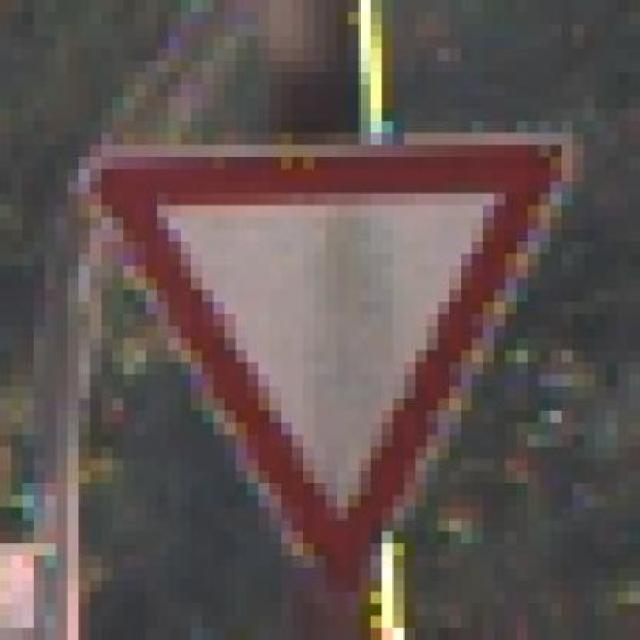Give Way: (68, 109, 595, 592)
